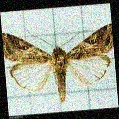Spodoptera litura: (4, 27, 114, 103)
